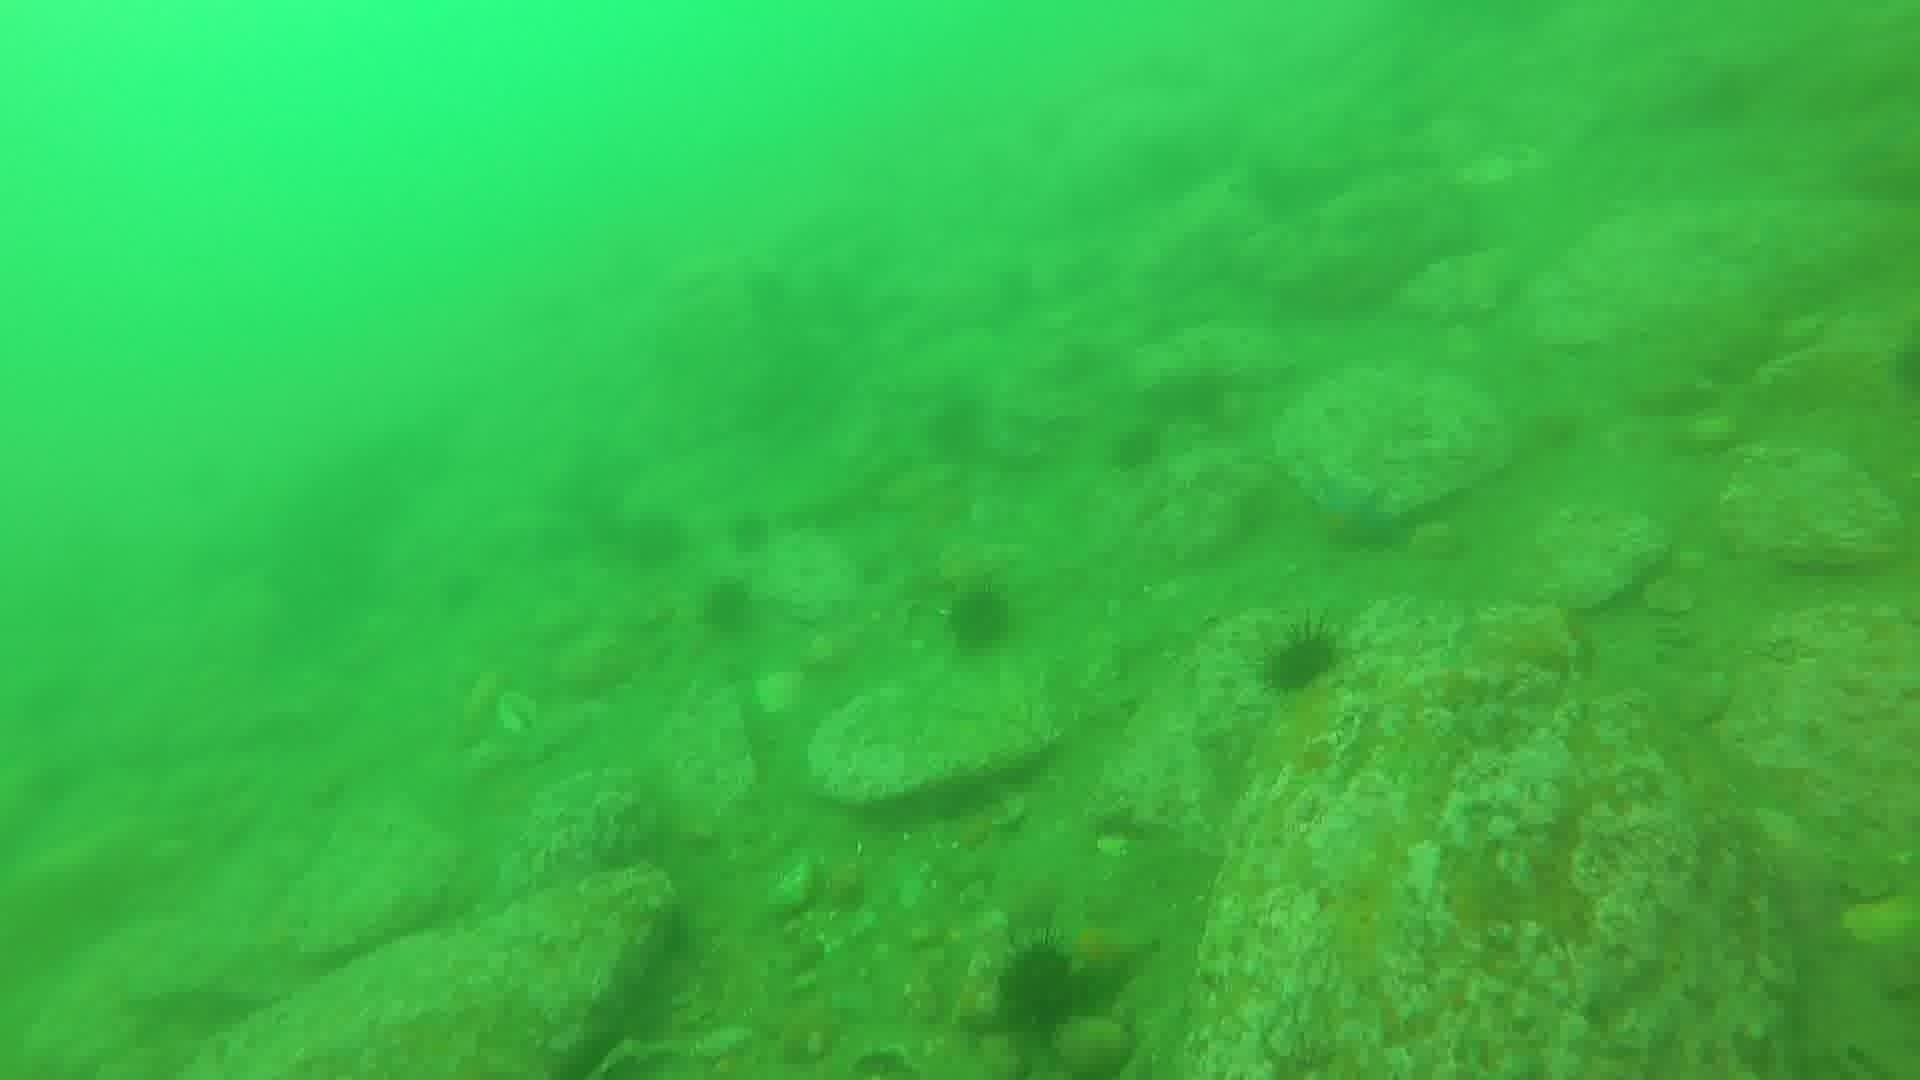echinus: (990, 938, 1092, 1039), (1255, 620, 1348, 700), (1143, 363, 1240, 431), (940, 578, 1021, 658), (618, 506, 692, 575), (694, 574, 764, 641), (1104, 419, 1168, 477), (723, 505, 778, 559)
starfish: (1043, 905, 1158, 997)
